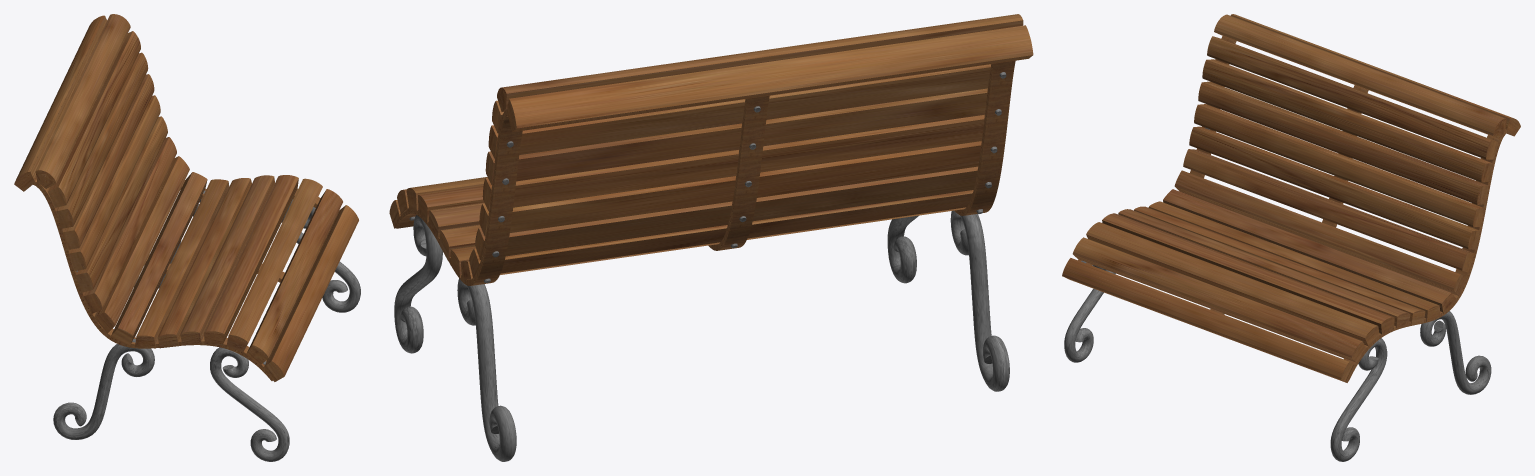
File: glukhov3d_bench.glb
3 views of the same model, side by side, from view 1: azimuth 30°, elevation 25°; view 2: azimuth 150°, elevation 25°; view 3: azimuth 270°, elevation 25° (orthographic). The views are drawn at different scales.
Parts seen in each view (by area): view 1: CurlyCurve.002_0; view 2: CurlyCurve.002_0; view 3: CurlyCurve.002_0.
Part boxes in pixels (box(x1,y1,x2,y2)): CurlyCurve.002_0: box(14, 14, 360, 461); CurlyCurve.002_0: box(389, 14, 1033, 461); CurlyCurve.002_0: box(1062, 14, 1520, 461).
Size of the model in its own units: 6.24 by 4.15 by 6.37.
1 material, 1 textured.
